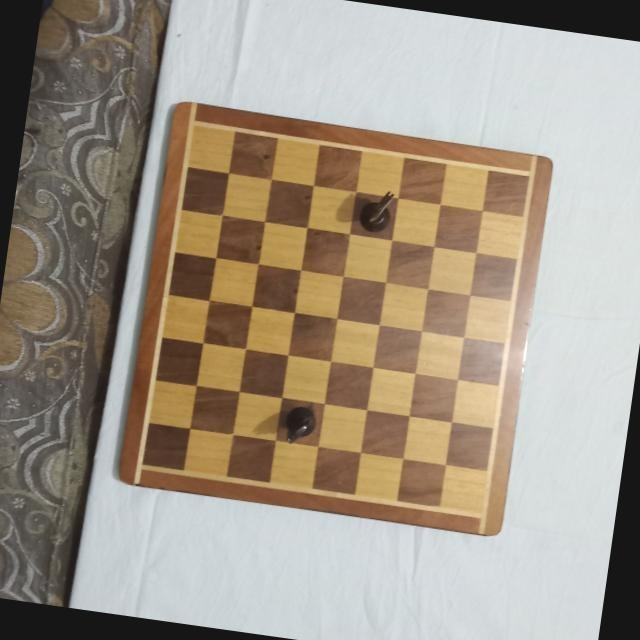black-knight: (356, 184, 396, 236), (280, 403, 319, 445)
